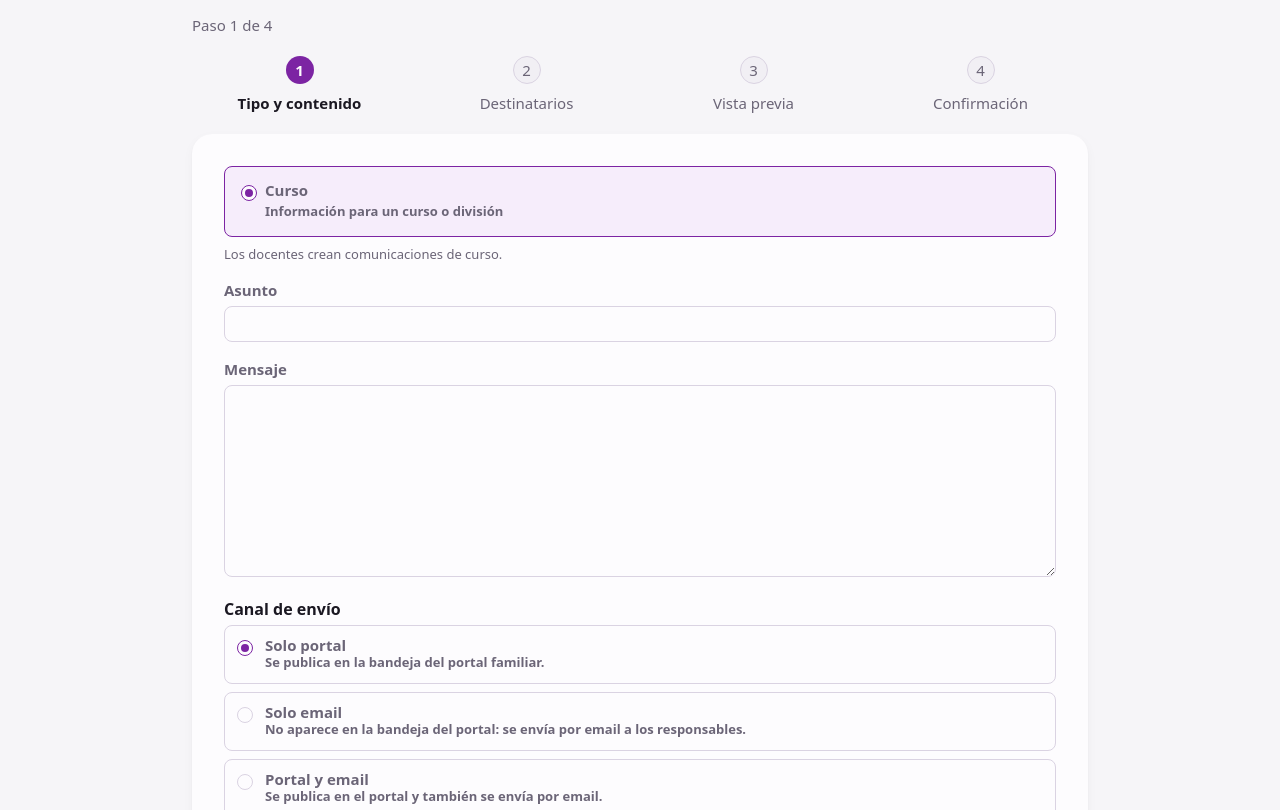
Test case: teacher form only offers assigned courses and publishes through teacher endpoints
Type "Materiales" into the field labelled "Asunto" at (640, 324), box [224, 306, 1056, 342]
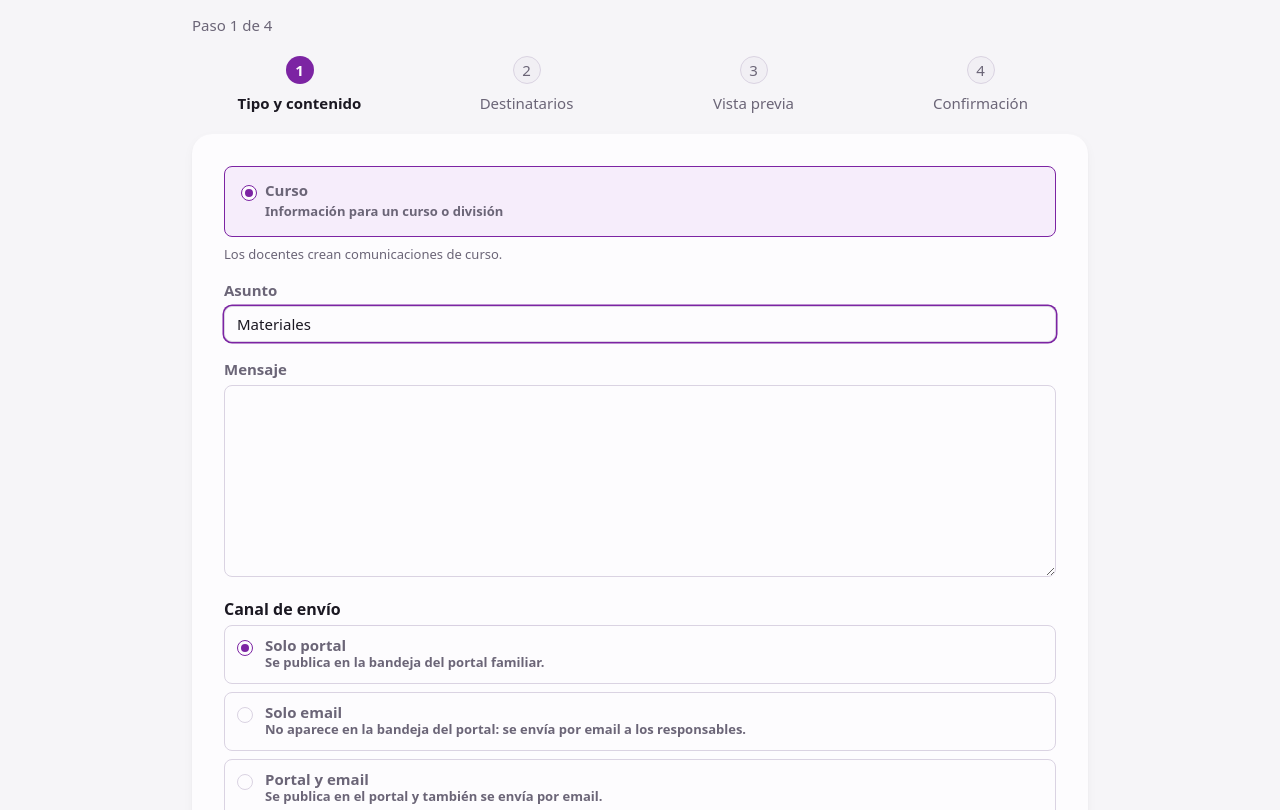
Type "Traer una botella" into the text box labelled "Mensaje" at (640, 481), box [224, 385, 1056, 577]
(page scrolled)
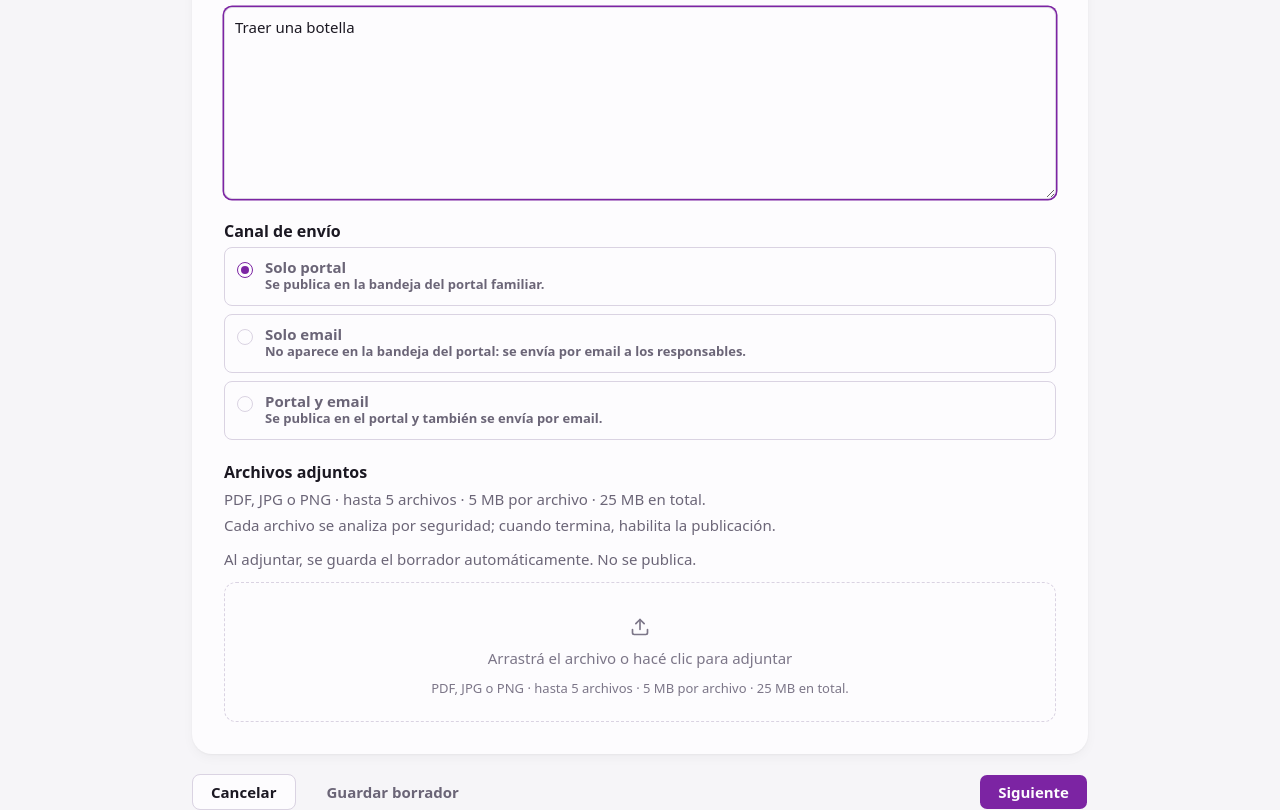
Click the button "Siguiente" at (1034, 792), box [979, 774, 1088, 809]
(page scrolled)
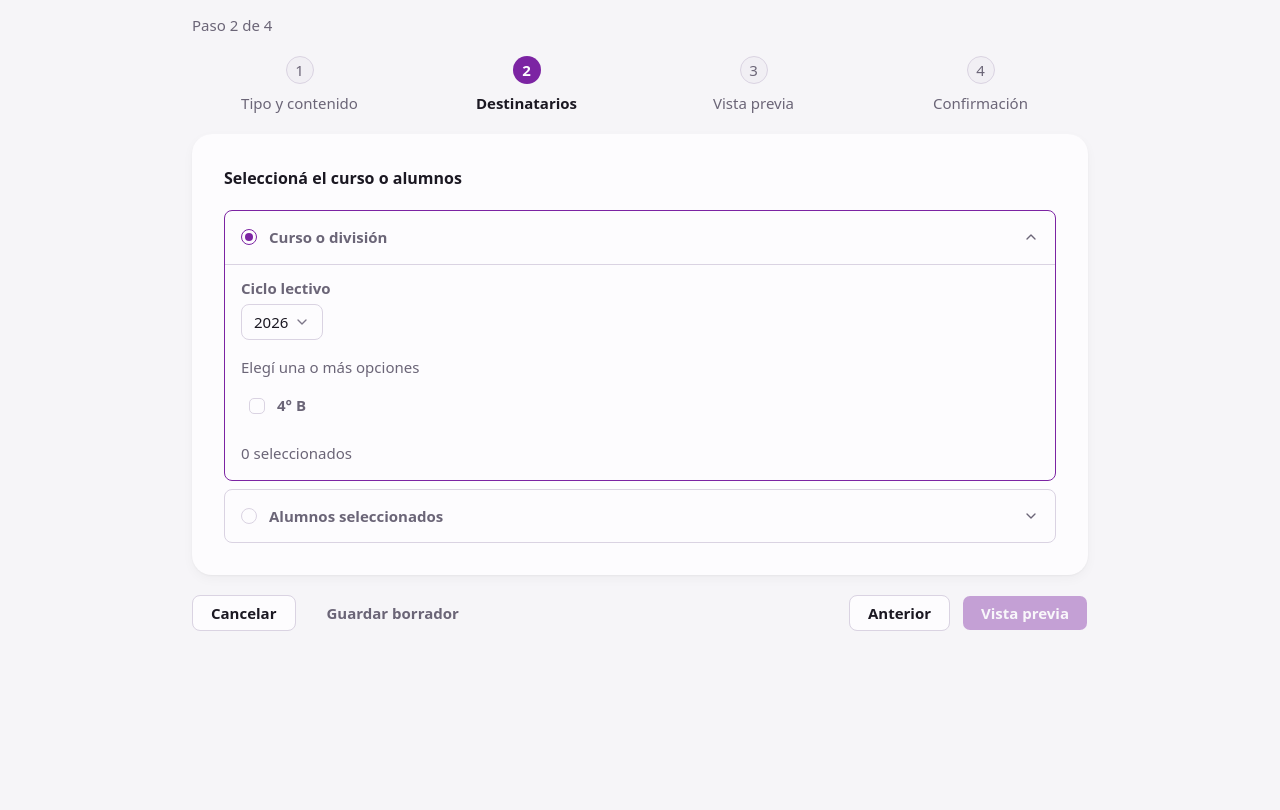
Click the checkbox named "4° B" at (257, 406), box [249, 398, 265, 414]
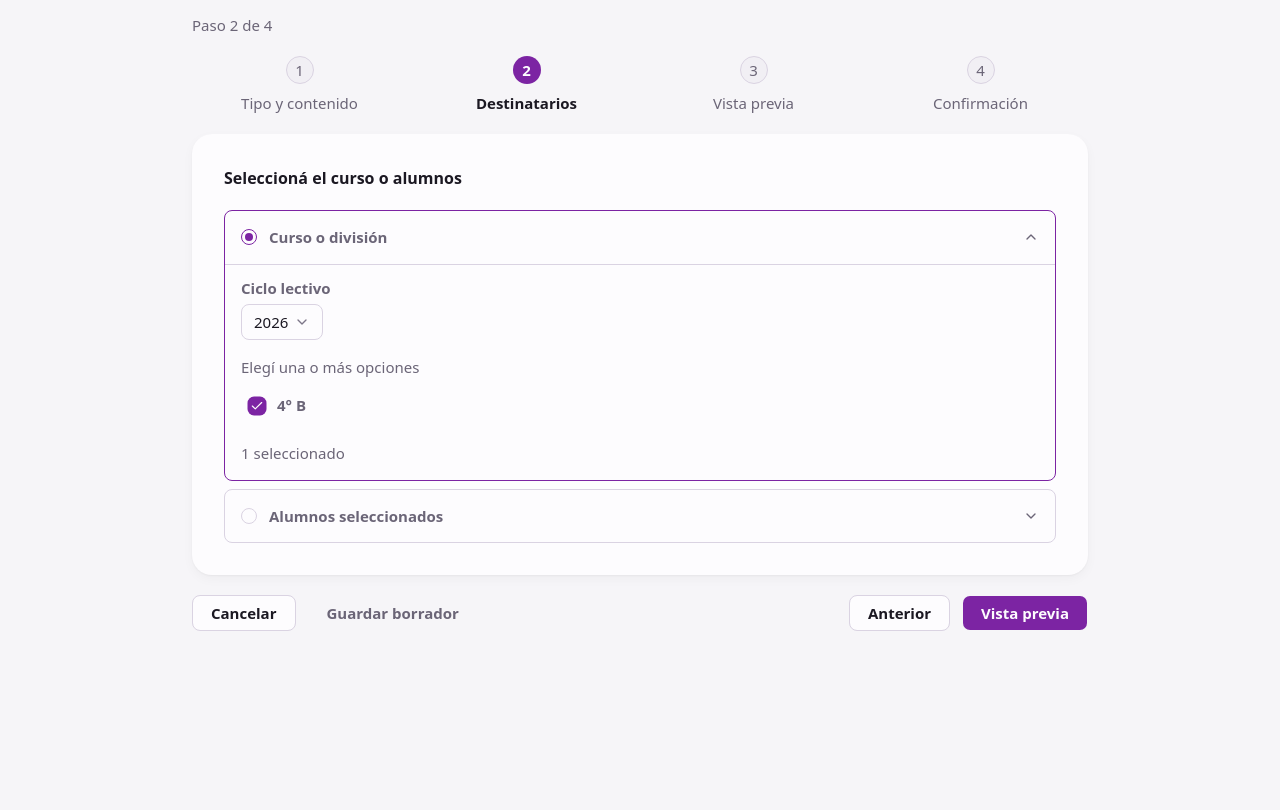
Click the button "Vista previa" at (1025, 613), box [962, 595, 1088, 631]
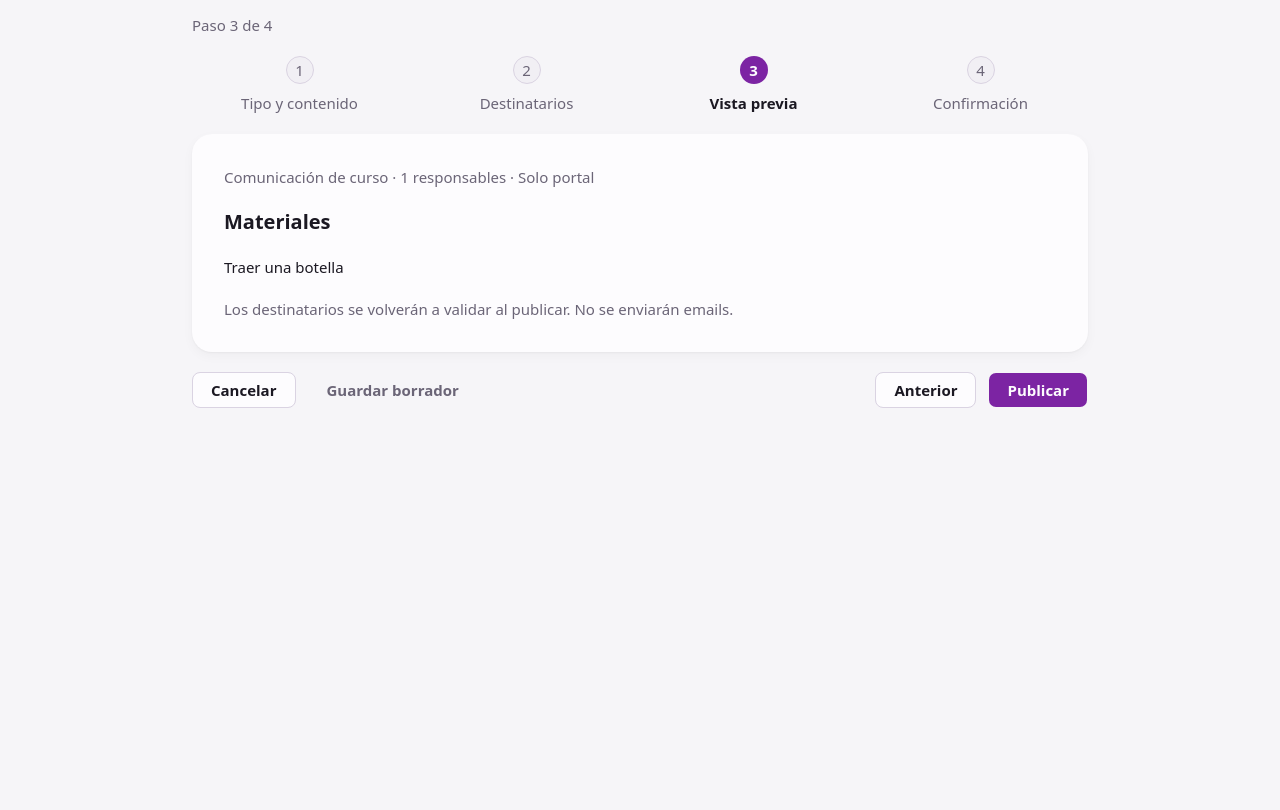
Expected: the text "Comunicación de curso · 1 responsables · Solo portal" is shown, [224, 167, 594, 187]
Click the button "Publicar" at (1038, 390), box [988, 372, 1088, 408]
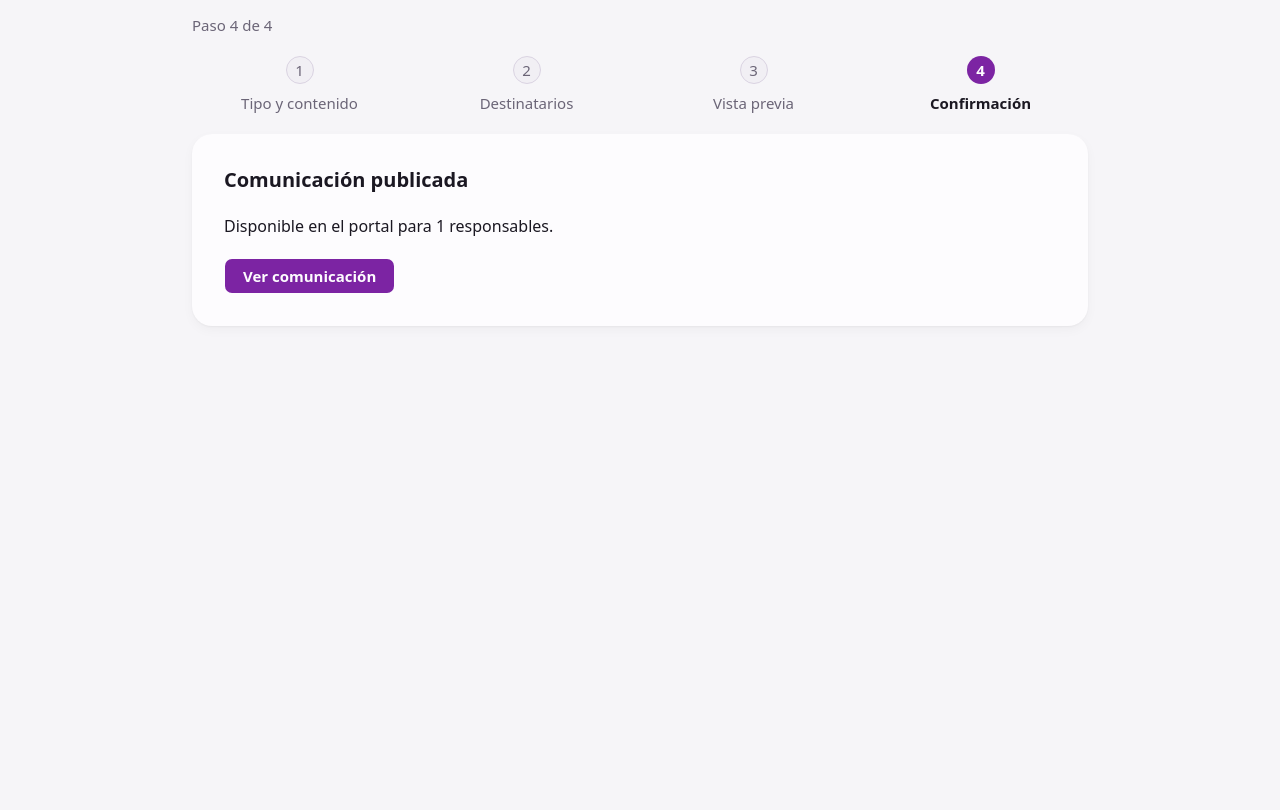
Expected: the heading "Comunicación publicada" is shown, [224, 166, 468, 193]
